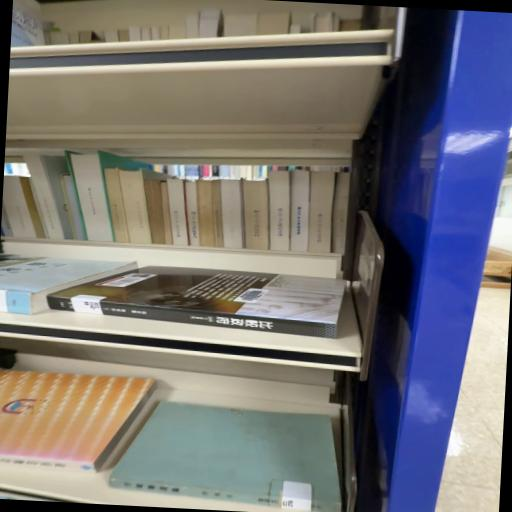flat: (112, 403, 336, 510), (48, 268, 347, 341)
